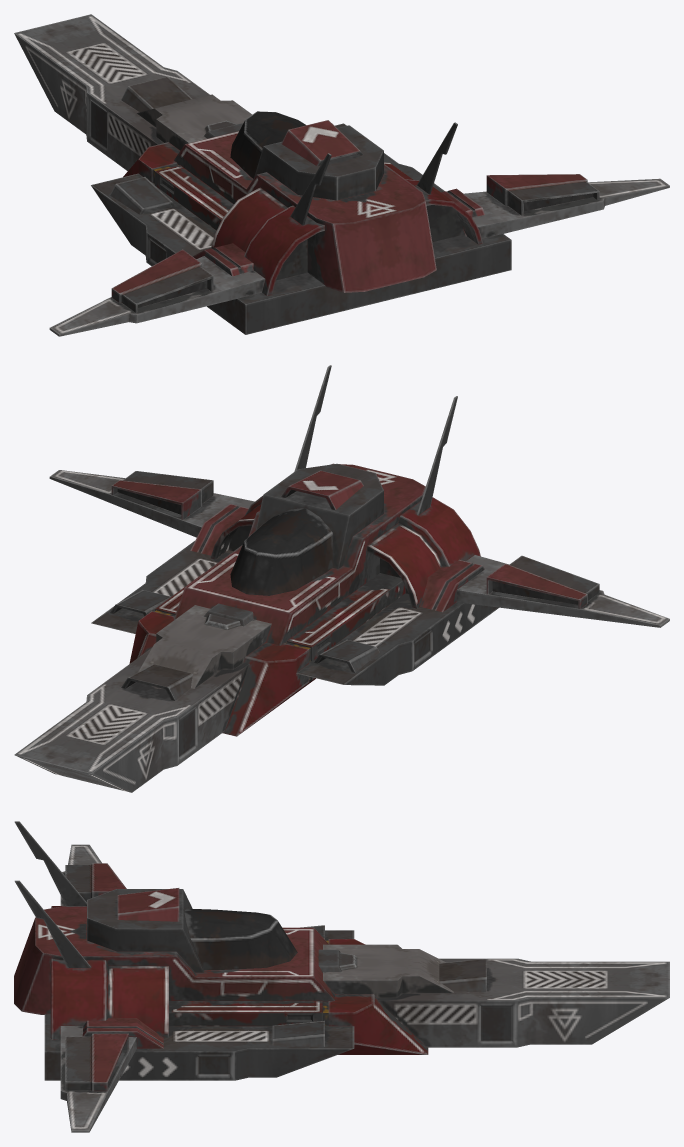
The model's file is raptor.glb.
The picture shows the model from 3 angles, top to bottom: view 1: azimuth 30°, elevation 25°; view 2: azimuth 150°, elevation 25°; view 3: azimuth 270°, elevation 25°; orthographic projection. The views are drawn at different scales.
Visible parts, largest first — view 1: Challenger; view 2: Challenger; view 3: Challenger.
Part boxes in pixels (left/top/right/bottom): Challenger: left=14, top=14, right=669, bottom=336; Challenger: left=14, top=365, right=669, bottom=792; Challenger: left=14, top=821, right=669, bottom=1132.
Size of the model in its own units: 3 by 0.8633 by 2.91.
Materials: 1 (1 with a texture image).
